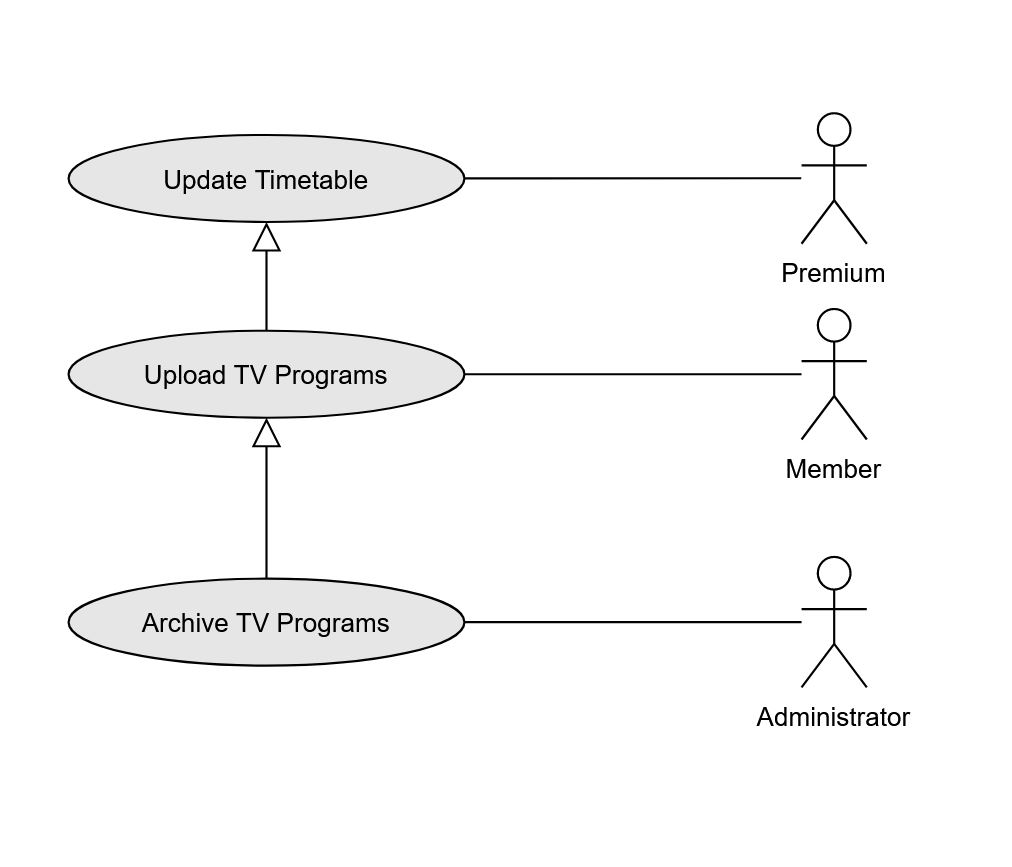actor: (799, 107, 871, 250), (802, 306, 873, 447), (804, 553, 868, 691)
association: (465, 349, 803, 397), (467, 161, 803, 190), (467, 610, 803, 639)
generalization: (249, 418, 287, 575), (252, 223, 280, 326)
text: (128, 605, 391, 641), (144, 358, 395, 388), (164, 163, 366, 198), (757, 697, 916, 737), (781, 255, 890, 289), (781, 452, 885, 487)
use_case: (67, 576, 466, 670), (67, 131, 465, 225), (67, 328, 464, 421)
